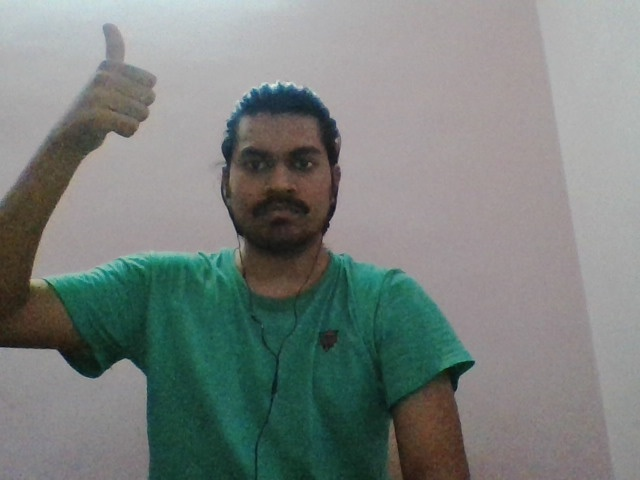ThumbsUp: (78, 19, 160, 153)
